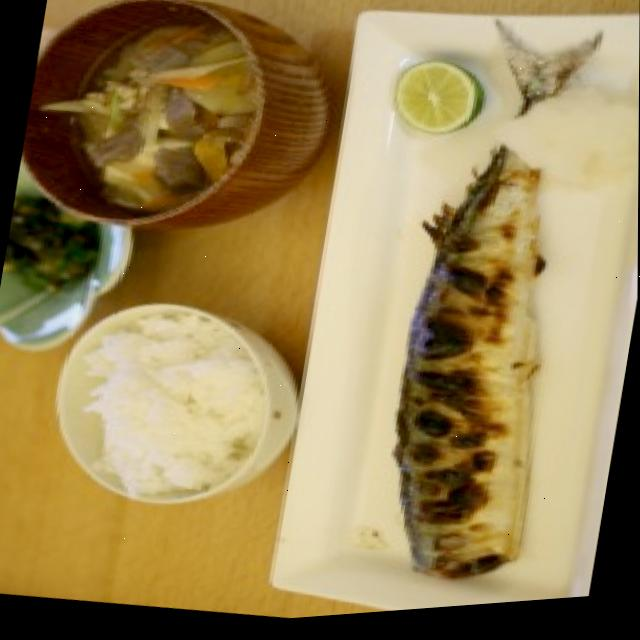米饭主食: (26, 280, 300, 520)
